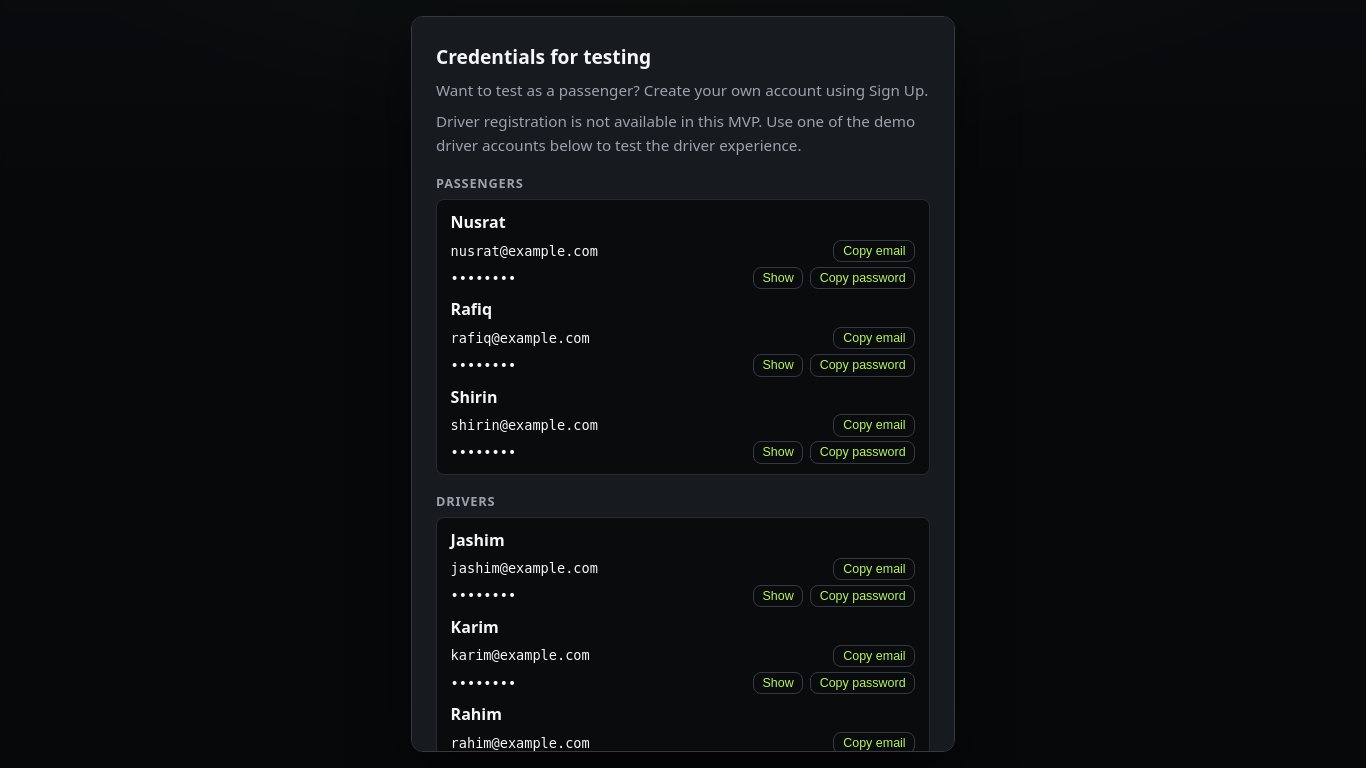
Test case: CredentialsModal › copies a revealed password and confirms it
Click the button with aria-label "Reveal password for Karim": point(778, 683) [753,672,804,694]
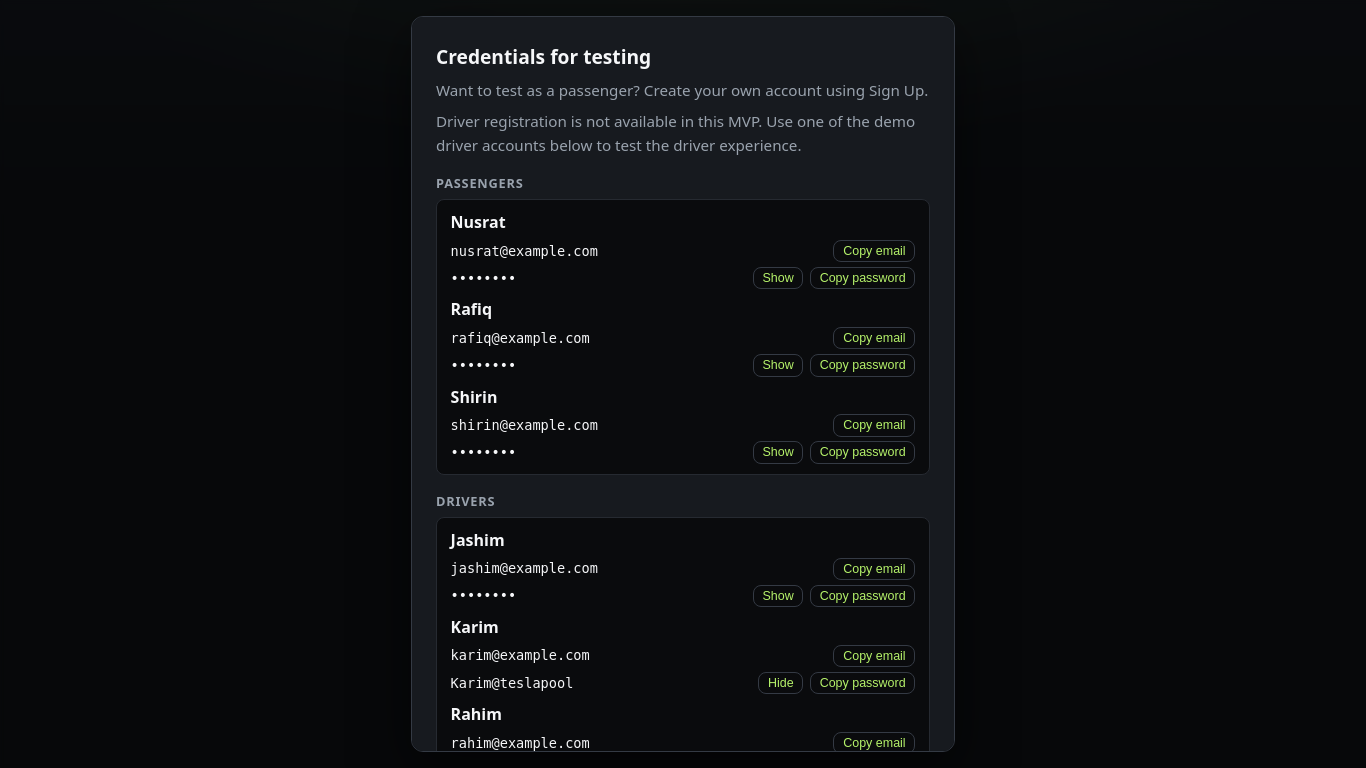
Click the button "Copy password" in the row of "Karim@teslapool": point(863, 683) [810,672,915,694]
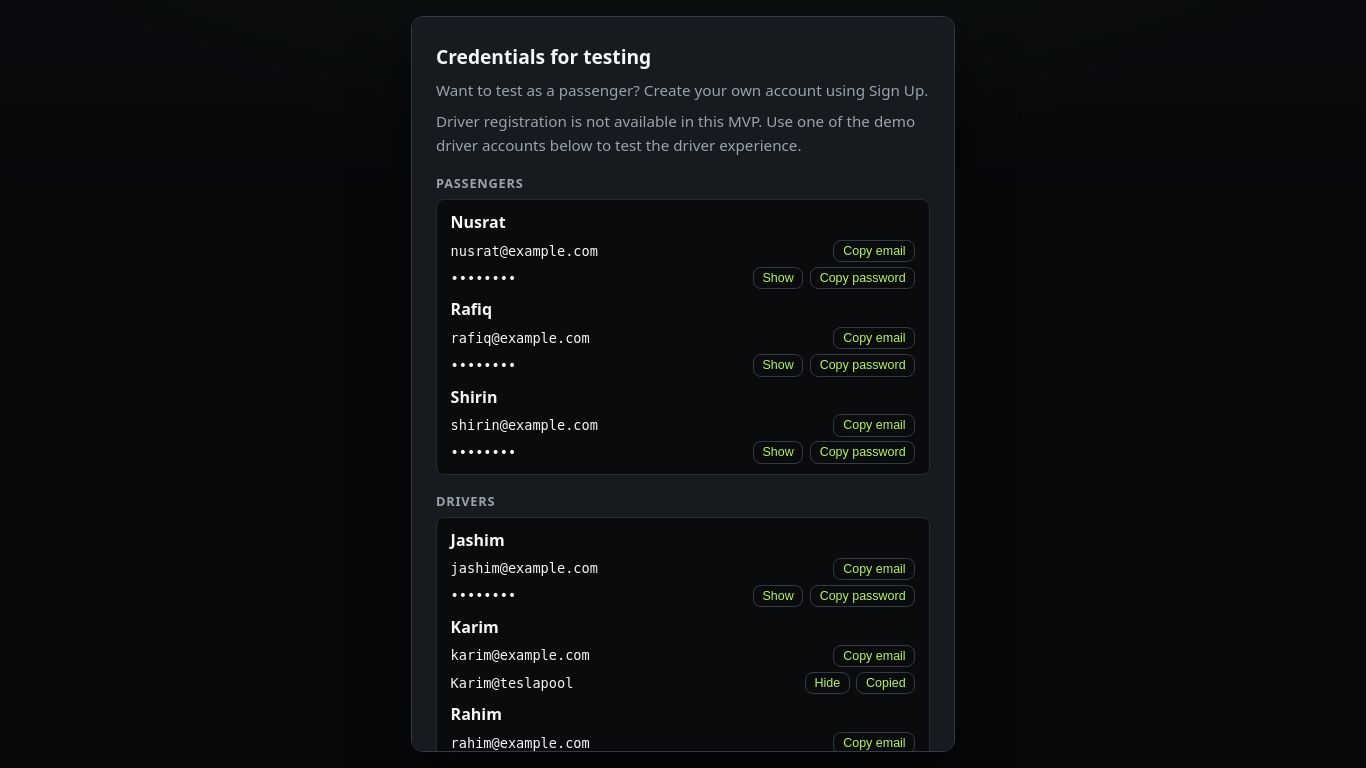
Expected: the button "Copied" is shown, [856,672,915,694]
